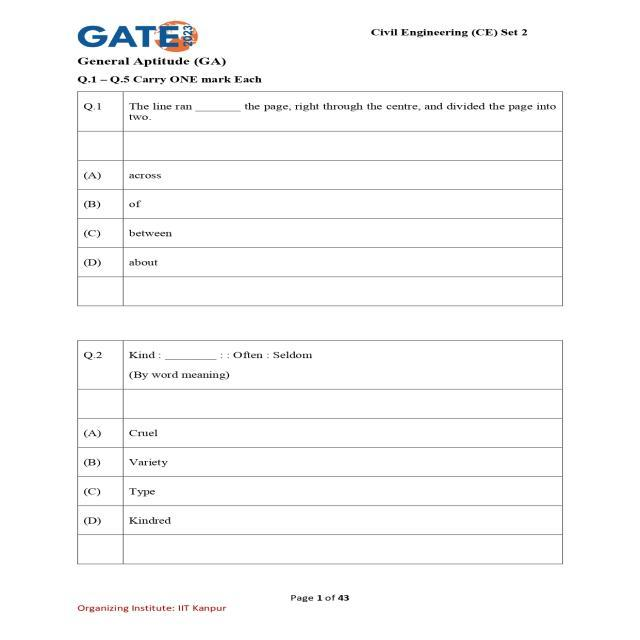Answer_Block: (78, 160, 564, 279), (80, 420, 560, 534)
Question_Answer_Block: (80, 344, 564, 562), (80, 94, 564, 309)
Question_Block: (75, 344, 562, 392), (83, 98, 564, 132)
Question_Paper_Area: (76, 91, 564, 561)
